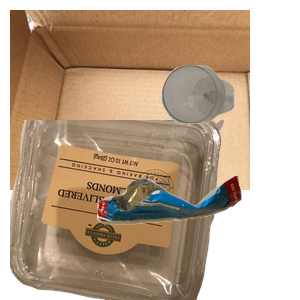cardboard: (10, 10, 250, 190)
glass: (159, 63, 300, 179)
plastic: (10, 120, 227, 300)
trash: (94, 173, 300, 300)
